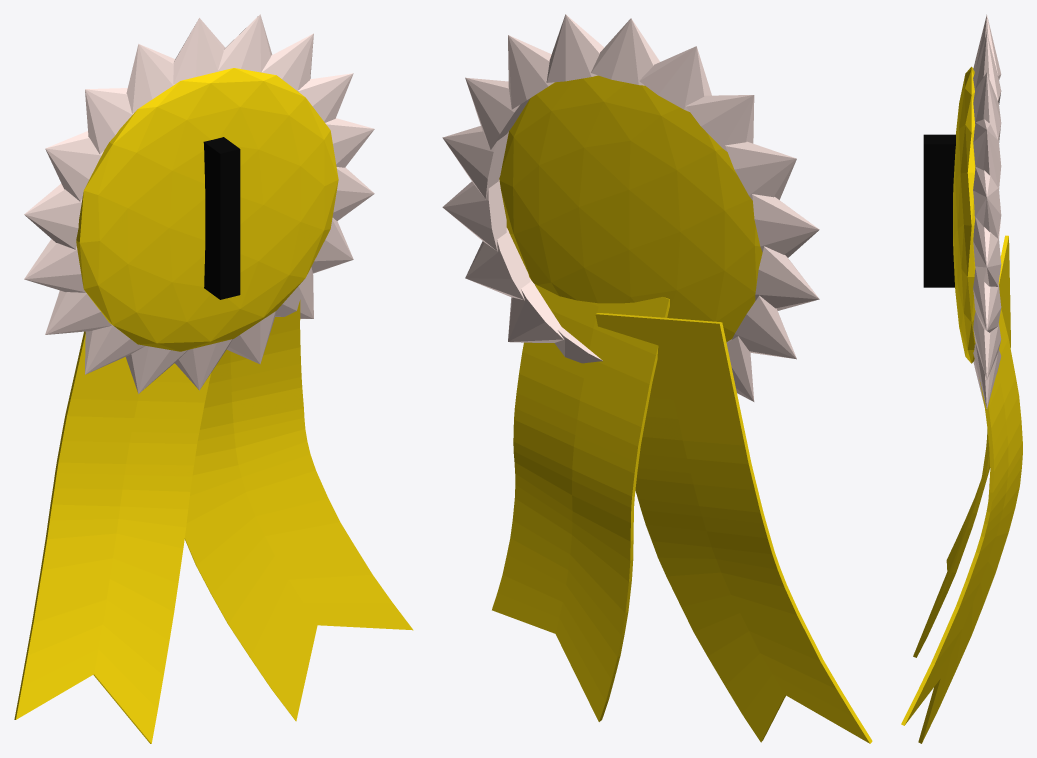
3 renders of one model, left to right at view 1: azimuth 30°, elevation 25°; view 2: azimuth 150°, elevation 25°; view 3: azimuth 270°, elevation 25°, orthographic. The views are drawn at different scales.
Visible parts, largest first — view 1: Cube.002; view 2: Cube.002; view 3: Cube.002.
Part boxes in pixels (left/top/right/bottom): Cube.002: left=14, top=14, right=413, bottom=743; Cube.002: left=442, top=14, right=872, bottom=743; Cube.002: left=901, top=14, right=1022, bottom=743.
Bounding box in the file's own units: 5384 × 9415 × 1527.
